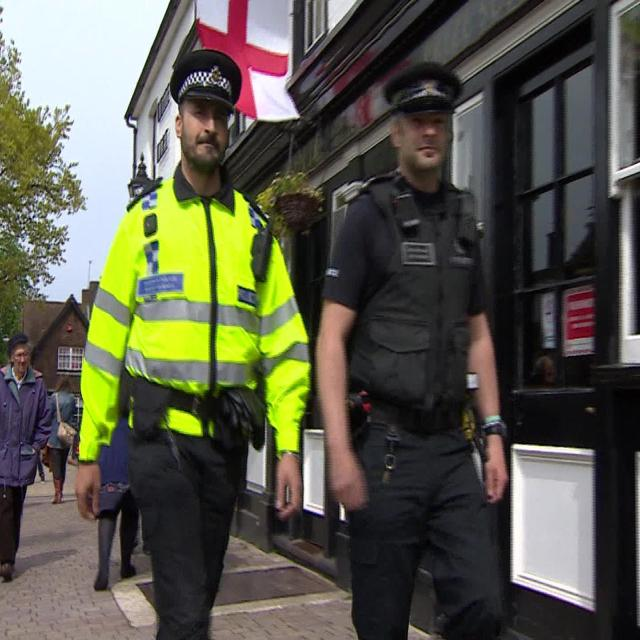police: (62, 8, 301, 640), (321, 37, 533, 640)
